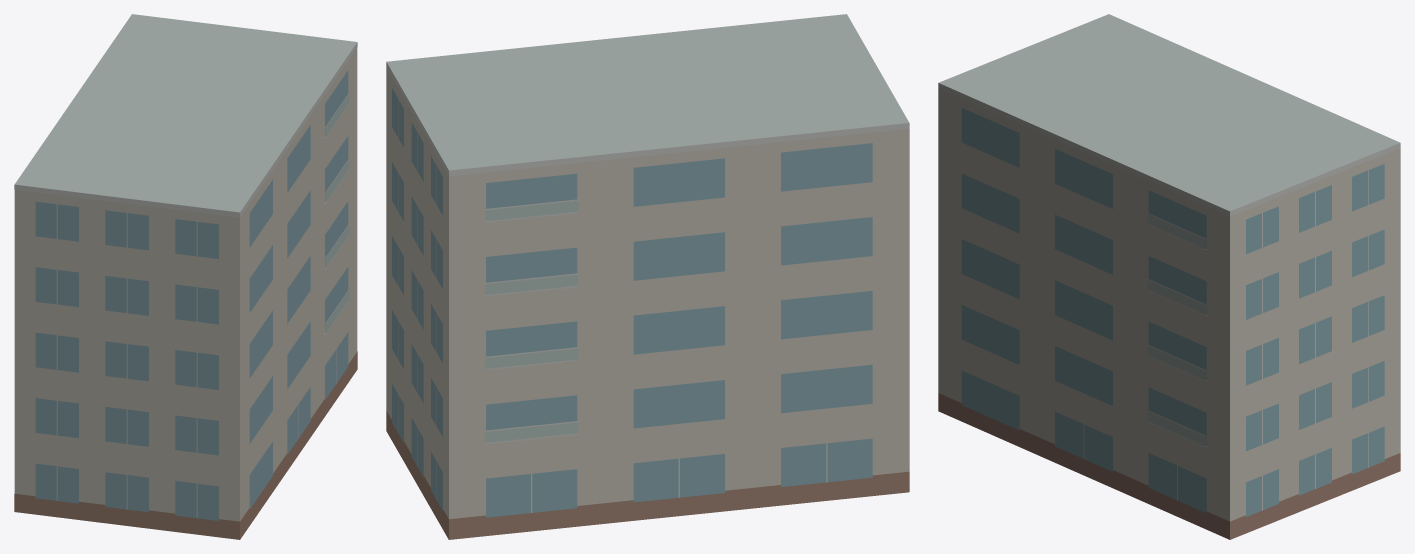
The model's file is survey-upis-33028161.glb.
3 views of the same model, side by side, from view 1: azimuth 30°, elevation 25°; view 2: azimuth 150°, elevation 25°; view 3: azimuth 270°, elevation 25° (orthographic). The views are drawn at different scales.
Parts seen in each view (by area): view 1: survey-upis-33028161.tmp; view 2: survey-upis-33028161.tmp; view 3: survey-upis-33028161.tmp.
Part boxes in pixels (x1=…): survey-upis-33028161.tmp: x1=14, y1=14, x2=357, y2=539; survey-upis-33028161.tmp: x1=386, y1=14, x2=909, y2=539; survey-upis-33028161.tmp: x1=938, y1=14, x2=1400, y2=539.
Bounding box in the file's own units: 20.18 × 15.65 × 19.97.
